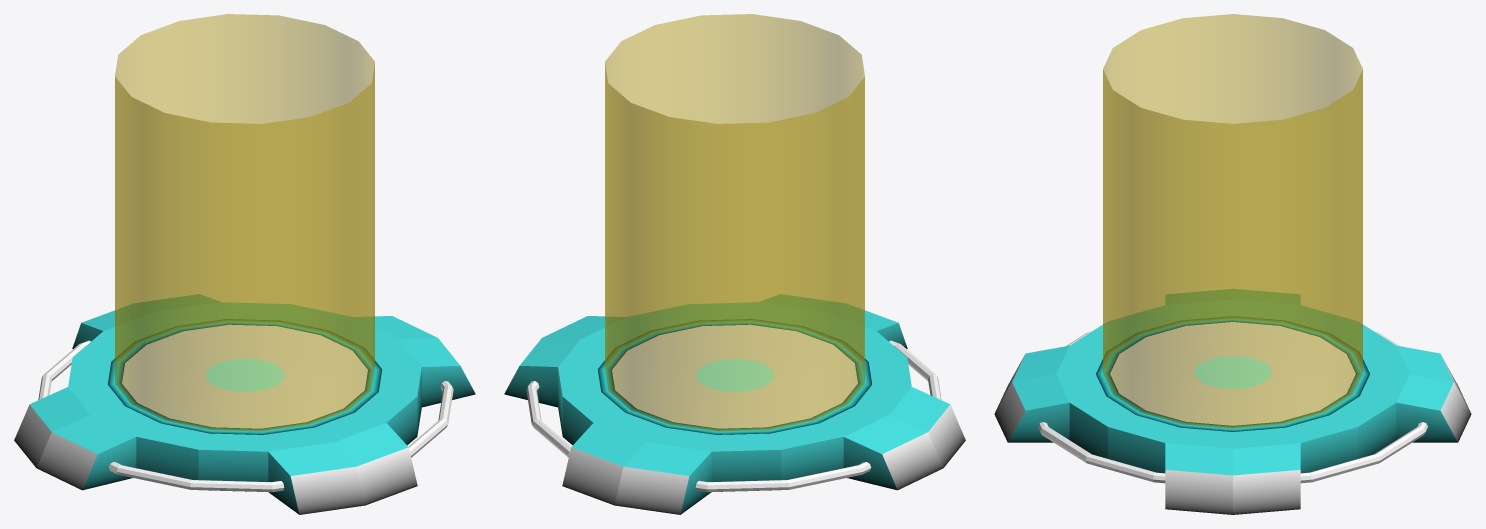
Rendered from Teleporter.fbx.
3 views of the same model, side by side, from view 1: azimuth 30°, elevation 25°; view 2: azimuth 150°, elevation 25°; view 3: azimuth 270°, elevation 25° (orthographic).
Visible parts, largest first — view 1: Cylinder, Innewr; view 2: Cylinder, Innewr; view 3: Cylinder, Innewr.
Boxes of the visible parts, <box> form: Cylinder: <box>115,14,374,431</box>; Innewr: <box>14,294,475,514</box>; Cylinder: <box>605,14,864,431</box>; Innewr: <box>504,294,965,514</box>; Cylinder: <box>1103,14,1362,428</box>; Innewr: <box>994,289,1471,514</box>.
Size of the model in its own units: 270 by 216 by 270.
